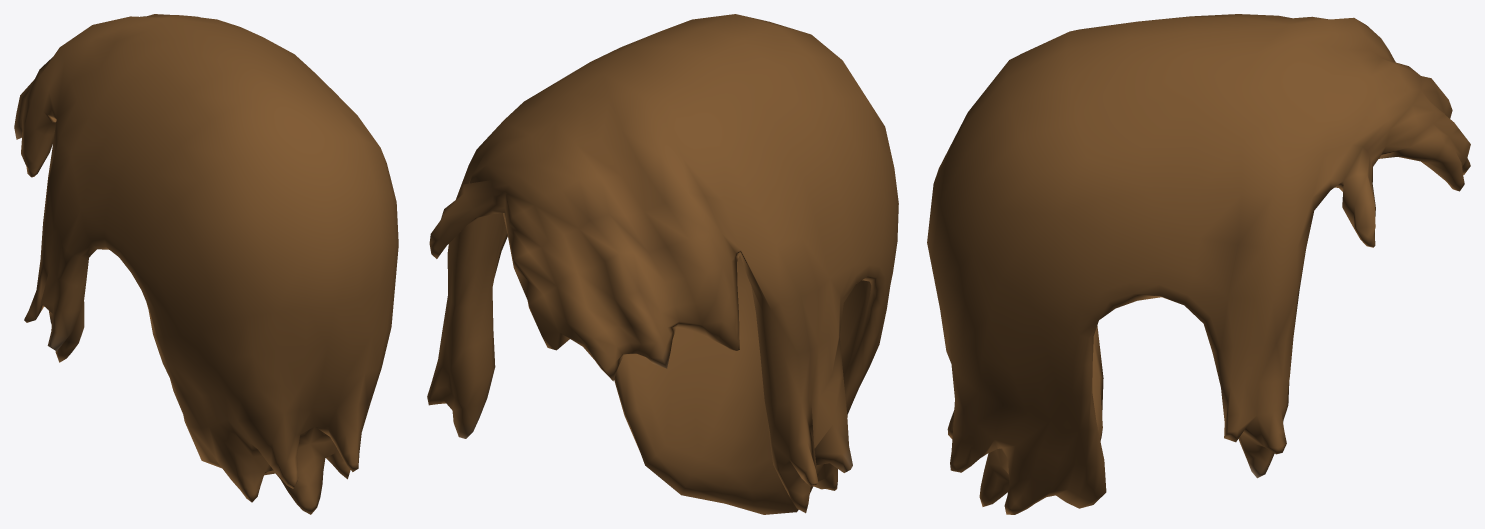
File: guyHair.fbx
The picture shows the model from 3 angles, left to right: view 1: azimuth 30°, elevation 25°; view 2: azimuth 150°, elevation 25°; view 3: azimuth 270°, elevation 25°; orthographic projection. The views are drawn at different scales.
Parts seen in each view (by area): view 1: guyHair1; view 2: guyHair1; view 3: guyHair1.
Boxes of the visible parts, <box> form: guyHair1: <box>14,14,398,514</box>; guyHair1: <box>427,14,898,514</box>; guyHair1: <box>927,14,1470,514</box>.
Bounding box in the file's own units: 31.52 × 39.54 × 40.97.
